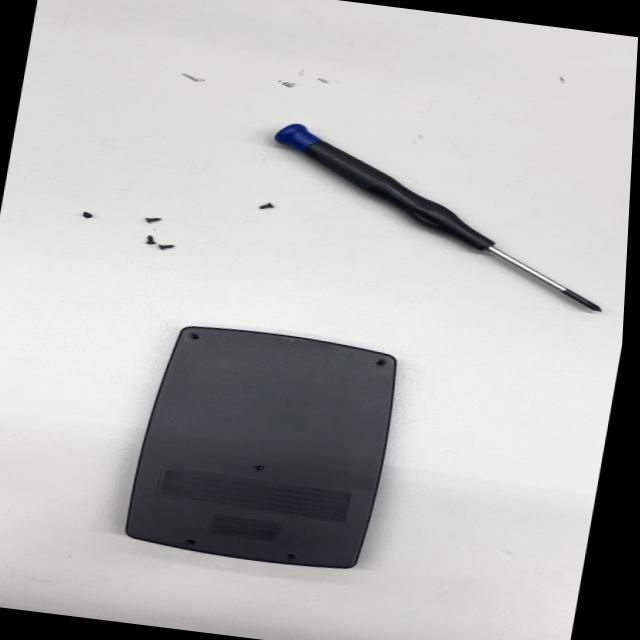back_cover: (116, 316, 409, 578)
screw: (253, 195, 284, 214), (140, 209, 169, 227), (156, 240, 180, 253), (77, 209, 99, 223), (140, 232, 159, 246)
screw_driver: (246, 120, 629, 312)
